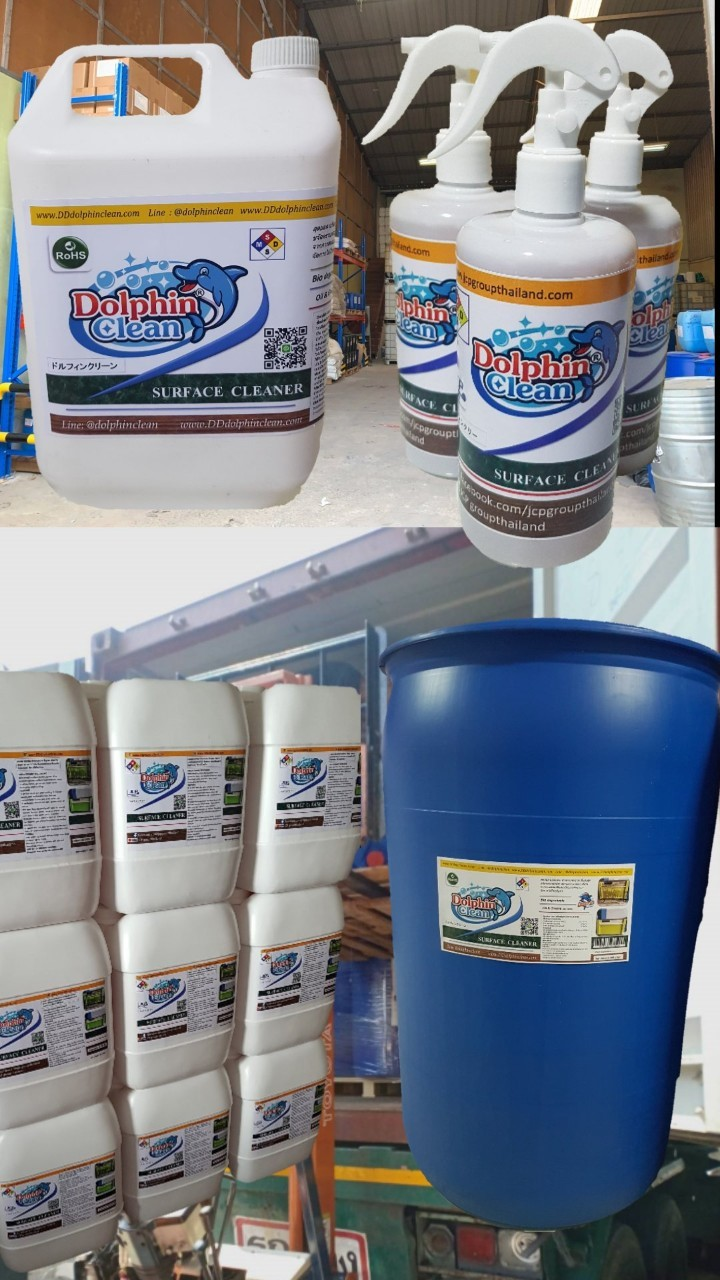Cleaning_solution: (8, 15, 344, 515), (432, 15, 637, 587)
